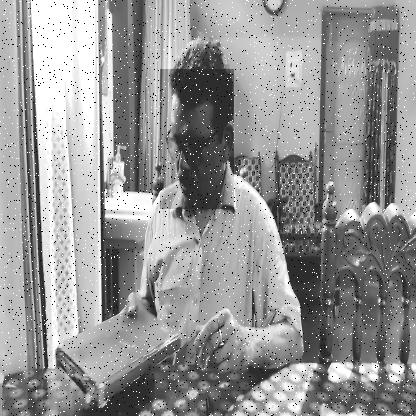Distracted: (160, 69, 234, 209)
